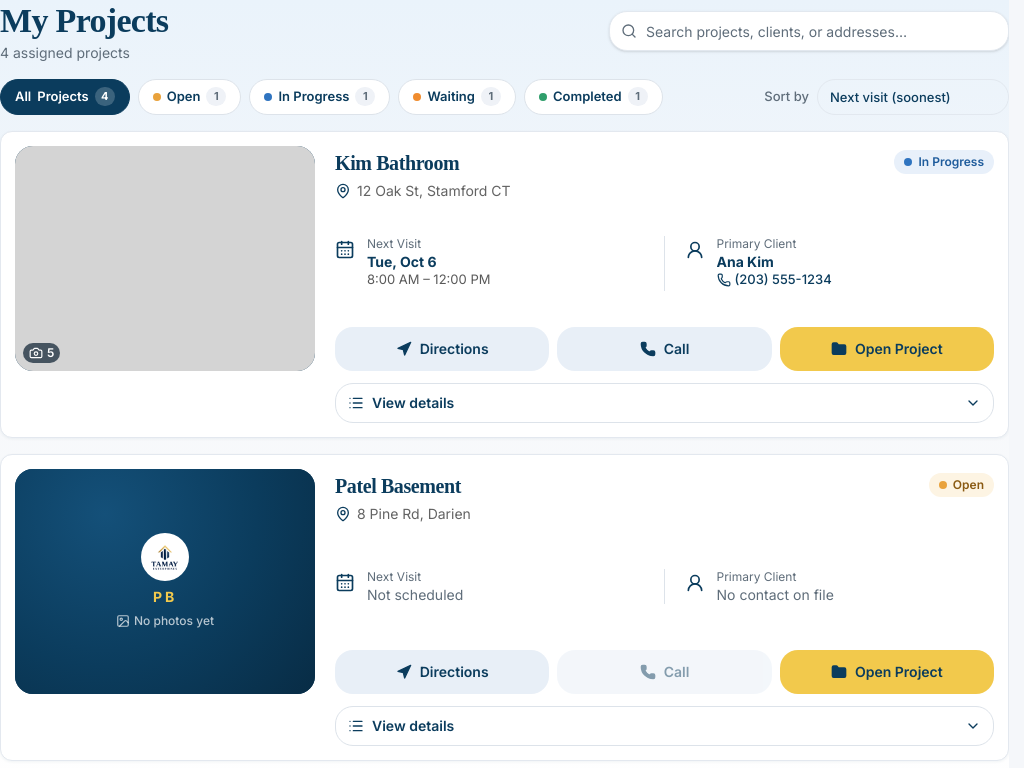
Test: My Projects (employee) › secondary information lives only inside the closed-by-default accordion
What coordinates should you click on to do the following:
click the button "View details" below "8:00 AM – 12:00 PM"
I would click on:
 (413, 402)
Its box is [335,382,994,422].
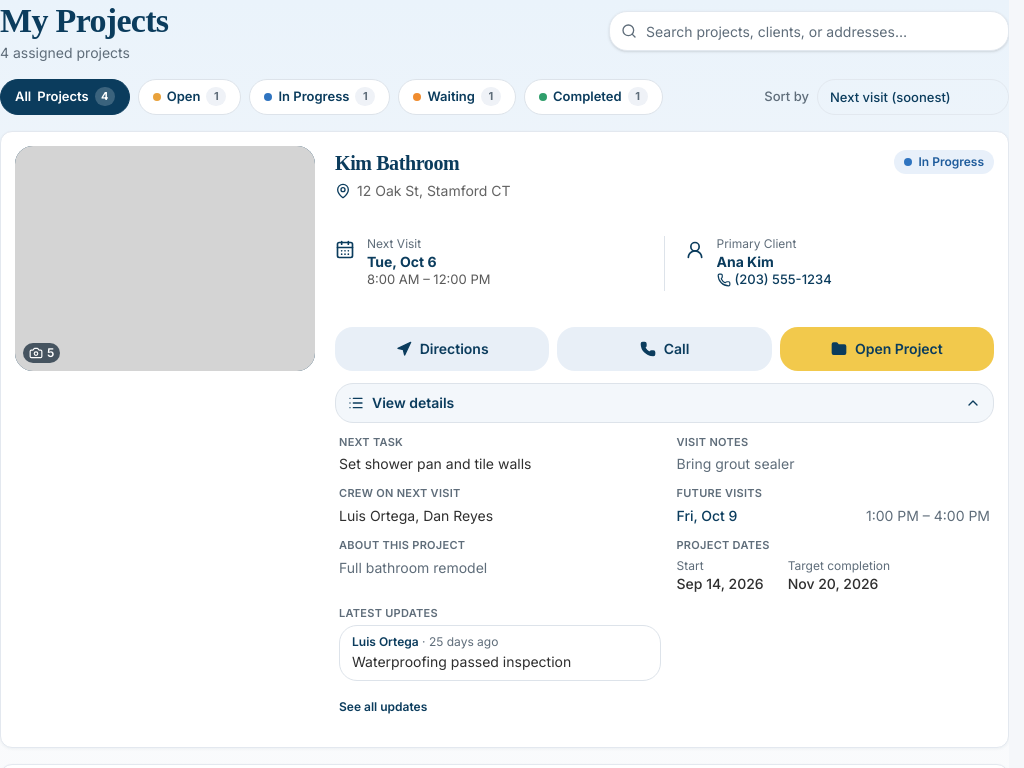
Result: the button "View details" is expanded at [335,382,994,422]
